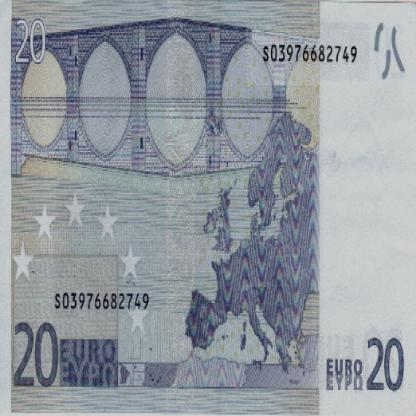euro_banknote: (1, 1, 416, 416)
